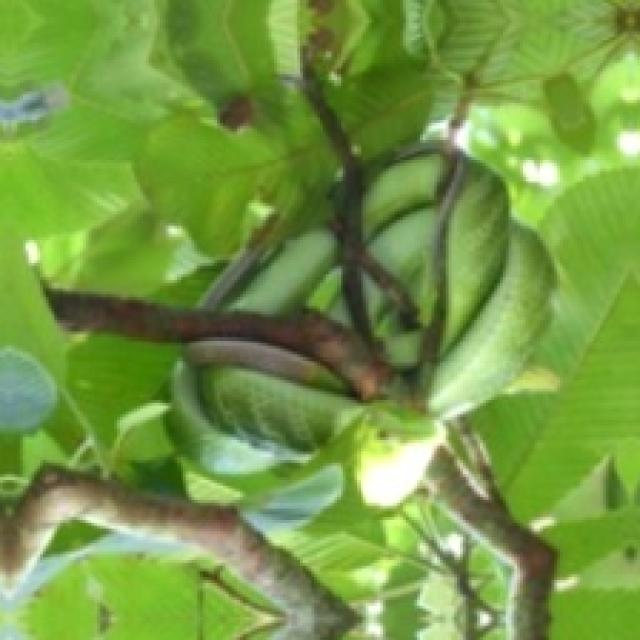red-tailed green ratsnake: (429, 161, 555, 417), (171, 339, 360, 476), (364, 154, 445, 307), (209, 230, 336, 317), (384, 330, 422, 369)
